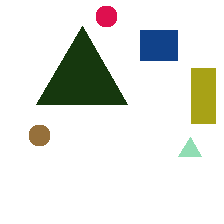circle: (96, 6, 116, 26), (29, 125, 49, 145)
rectangle: (191, 68, 215, 123), (140, 30, 177, 60)
triangle: (36, 26, 127, 104), (178, 137, 201, 156)
